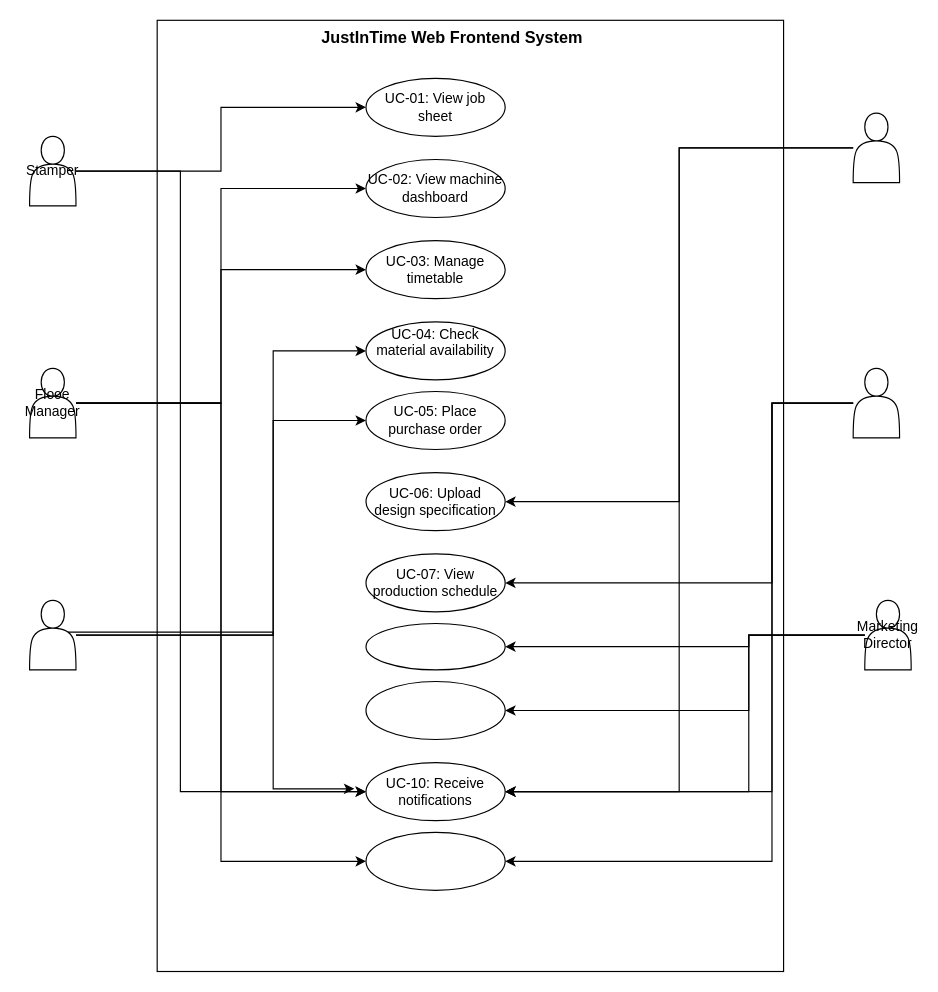
This 938x992 diagram has some shape labels left out. The centre of each missing label's shape, as x and y in pixels:
"Product Engineer" belongs at point (876, 147).
"Production Manager" belongs at point (876, 402).
"Production Operative" belongs at point (52, 634).
"UC-08: Enter customer order" belongs at point (435, 646).
"UC-09: Track order status" belongs at point (435, 710).
"UC-11: Generate reports" belongs at point (435, 860).
